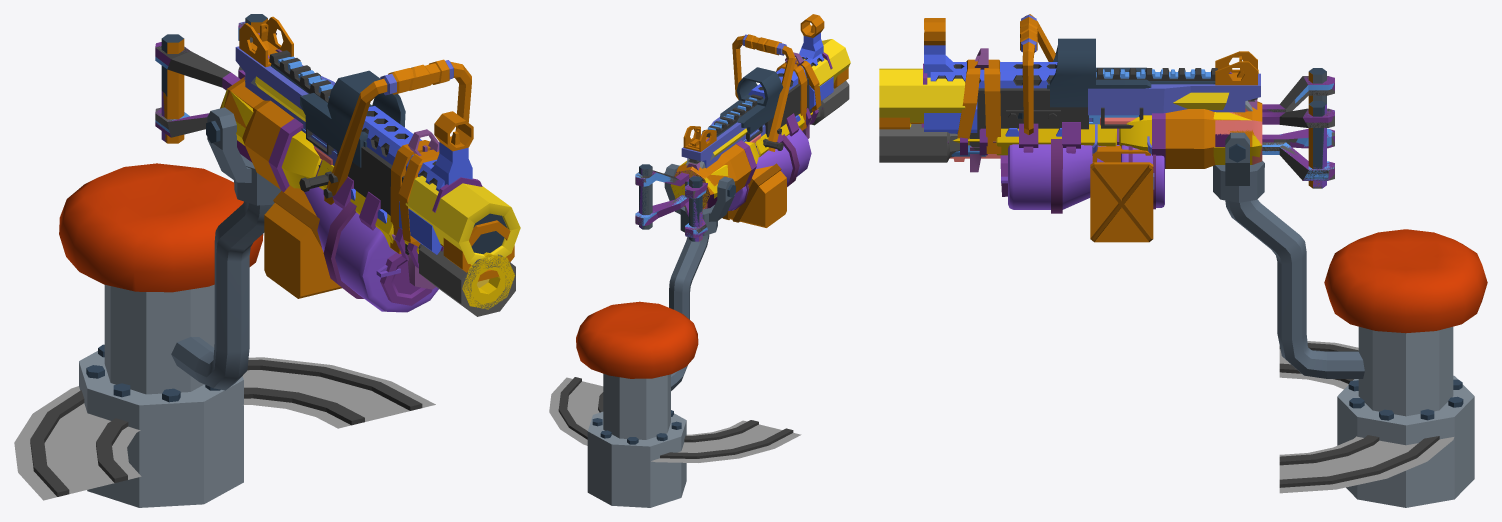
File: Weapons_new.fbx
3 renders of one model, left to right at view 1: azimuth 30°, elevation 25°; view 2: azimuth 150°, elevation 25°; view 3: azimuth 270°, elevation 25°, orthographic. The views are drawn at different scales.
Visible parts, largest first — view 1: Weapon_Chair, weapon_04, chair_mech, weapon_03, WeaponDeck, Weapon_01, weapon_02; view 2: Weapon_Chair, weapon_04, chair_mech, weapon_03, Weapon_01, WeaponDeck, weapon_02; view 3: Weapon_Chair, weapon_04, weapon_03, WeaponDeck, weapon_02, Weapon_01, chair_mech.
Boxes of the visible parts, x1,y1,x2,y2 form: Weapon_Chair: (59, 163, 263, 507); weapon_04: (155, 16, 514, 298); chair_mech: (14, 357, 435, 500); weapon_03: (155, 22, 515, 316); WeaponDeck: (171, 107, 281, 390); Weapon_01: (155, 14, 514, 309); weapon_02: (155, 18, 520, 264); Weapon_Chair: (576, 301, 698, 507); weapon_04: (639, 14, 848, 241); chair_mech: (549, 377, 801, 462); weapon_03: (635, 52, 849, 241); Weapon_01: (635, 52, 832, 241); WeaponDeck: (664, 164, 735, 390); weapon_02: (635, 39, 850, 241); Weapon_Chair: (1324, 229, 1487, 507); weapon_04: (879, 14, 1330, 242); weapon_03: (879, 38, 1334, 213); WeaponDeck: (1213, 132, 1364, 378); weapon_02: (879, 68, 1334, 188); Weapon_01: (910, 63, 1334, 196); chair_mech: (1279, 341, 1454, 493).
Bounding box in the file's own units: 1.14 × 1.59 × 1.89.
